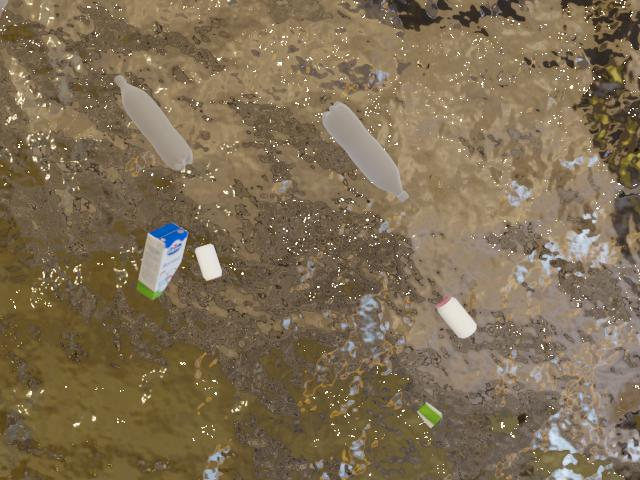Metal: (424, 295, 495, 350), (194, 234, 232, 294)
Plastic: (310, 89, 429, 226), (97, 59, 218, 180)
Trash: (123, 216, 195, 318), (406, 385, 465, 445)
